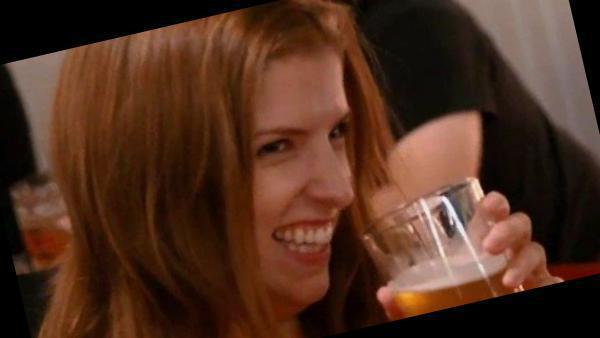Drunk: (249, 48, 349, 306)
